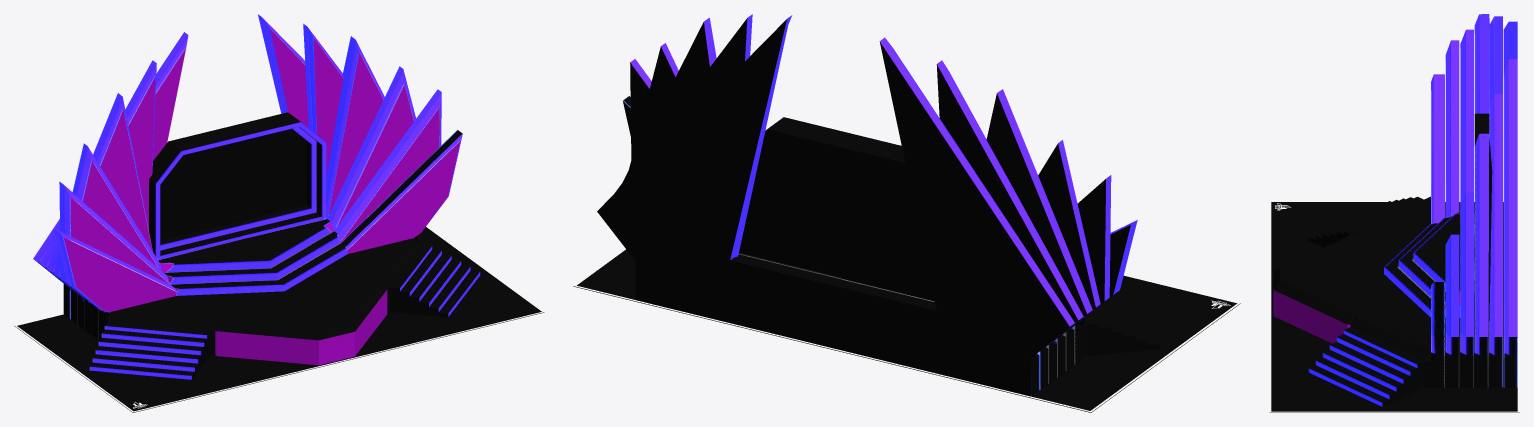
Rendered from Stage 1 Final.glb.
The picture shows the model from 3 angles, left to right: view 1: azimuth 30°, elevation 25°; view 2: azimuth 150°, elevation 25°; view 3: azimuth 270°, elevation 25°; orthographic projection. The views are drawn at different scales.
Visible parts, largest first — view 1: Building, Ground; view 2: Building, Ground; view 3: Building, Ground.
Boxes of the visible parts, x1,y1,x2,y2 form: Building: [33, 14, 480, 379]; Ground: [14, 226, 544, 412]; Building: [597, 14, 1159, 396]; Ground: [573, 248, 1240, 412]; Building: [1273, 14, 1517, 406]; Ground: [1269, 201, 1519, 412].
Size of what is drawn, in the model's own units: 32 by 18.82 by 16.
3 materials, 1 textured.
